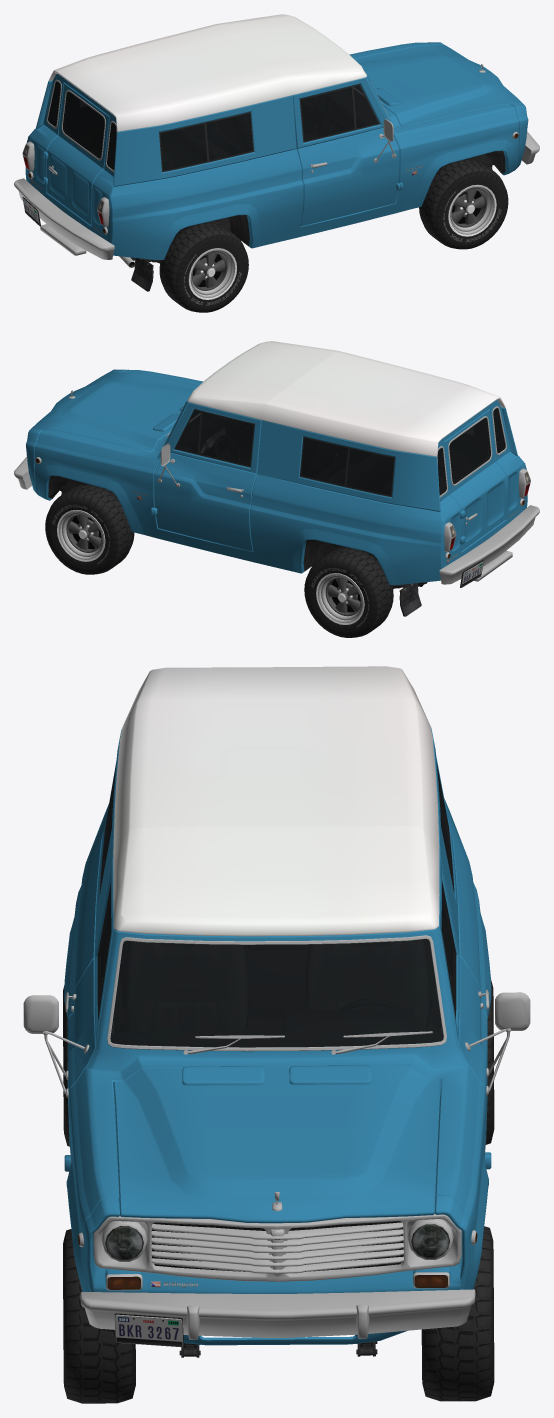
Rendered from bokaroo.glb.
3 renders of one model, top to bottom at view 1: azimuth 30°, elevation 25°; view 2: azimuth 150°, elevation 25°; view 3: azimuth 270°, elevation 25°, orthographic. The views are drawn at different scales.
Visible parts, largest first — view 1: Bokaroo67_Body_BUCKAROO_67_Bodymat_0, Bokaroo67_Bottom_UCB_BOTTOM_0, Bokaroo67_Hood_BUCKAROO_67_Bodymat_0, Bokaroo67_Interior_UCB_Interiors_2_0, Bokaroo67_WheelStock_RR_RO1a_Tire_0, Bokaroo67_WheelStock_FR_RO1a_Tire_0, Bokaroo67_Bodyglass_UCB_Lights_and_Glass_Transperent_0, Bokaroo67_Bumper_rear_UCB_BOTTOM_0, Bokaroo67_Glass_Passenger_UCB_Lights_and_Glass_Transperent_0, Bokaroo67_rear_door_glass_UCB_Lights_and_Glass_Transperent_0, Bokaroo67_rear_door_inner_UCB_BOTTOM_0; view 2: Bokaroo67_Body_BUCKAROO_67_Bodymat_0, Bokaroo67_Bottom_UCB_BOTTOM_0, Bokaroo67_Hood_BUCKAROO_67_Bodymat_0, Bokaroo67_Interior_UCB_Interiors_2_0, Bokaroo67_WheelStock_RL_RO1a_Tire_0, Bokaroo67_WheelStock_FL_RO1a_Tire_0, Bokaroo67_Bodyglass_UCB_Lights_and_Glass_Transperent_0, Bokaroo67_Bumper_rear_UCB_BOTTOM_0, Bokaroo67_Glass_Driver_UCB_Lights_and_Glass_Transperent_0, Bokaroo67_rear_door_glass_UCB_Lights_and_Glass_Transperent_0, Bokaroo67_rear_door_inner_UCB_BOTTOM_0; view 3: Bokaroo67_Bottom_UCB_BOTTOM_0, Bokaroo67_Body_BUCKAROO_67_Bodymat_0, Bokaroo67_Hood_BUCKAROO_67_Bodymat_0, Bokaroo67_Windshield_UCB_Lights_and_Glass_Transperent_0, Bokaroo67_Interior_UCB_Interiors_2_0, Bokaroo67_Bumper_Front_UCB_BOTTOM_0, Bokaroo67_WheelStock_FL_RO1a_Tire_0, Bokaroo67_WheelStock_FR_RO1a_Tire_0, Bokaroo67_Headlight_Glass_UCB_Lights_and_Glass_0, Bokaroo67_Numberplate_Front_Numberplates_Misk_U_0, Bokaroo67_Bodyglass_UCB_Lights_and_Glass_Transperent_0, Bokaroo67_WheelStock_RL_RO1a_Tire_0.
Boxes of the visible parts, <box> form: Bokaroo67_Body_BUCKAROO_67_Bodymat_0: <box>25,42,528,259</box>; Bokaroo67_Bottom_UCB_BOTTOM_0: <box>22,14,518,291</box>; Bokaroo67_Hood_BUCKAROO_67_Bodymat_0: <box>354,44,522,126</box>; Bokaroo67_Interior_UCB_Interiors_2_0: <box>48,82,376,169</box>; Bokaroo67_WheelStock_RR_RO1a_Tire_0: <box>159,222,248,312</box>; Bokaroo67_WheelStock_FR_RO1a_Tire_0: <box>419,159,508,249</box>; Bokaroo67_Bodyglass_UCB_Lights_and_Glass_Transperent_0: <box>48,81,378,170</box>; Bokaroo67_Bumper_rear_UCB_BOTTOM_0: <box>14,178,114,259</box>; Bokaroo67_Glass_Passenger_UCB_Lights_and_Glass_Transperent_0: <box>300,87,354,141</box>; Bokaroo67_rear_door_glass_UCB_Lights_and_Glass_Transperent_0: <box>63,92,104,158</box>; Bokaroo67_rear_door_inner_UCB_BOTTOM_0: <box>48,90,105,174</box>; Bokaroo67_Body_BUCKAROO_67_Bodymat_0: <box>26,369,527,585</box>; Bokaroo67_Bottom_UCB_BOTTOM_0: <box>35,341,530,616</box>; Bokaroo67_Hood_BUCKAROO_67_Bodymat_0: <box>32,371,197,451</box>; Bokaroo67_Interior_UCB_Interiors_2_0: <box>177,408,504,494</box>; Bokaroo67_WheelStock_RL_RO1a_Tire_0: <box>304,548,393,637</box>; Bokaroo67_WheelStock_FL_RO1a_Tire_0: <box>45,484,134,574</box>; Bokaroo67_Bodyglass_UCB_Lights_and_Glass_Transperent_0: <box>176,408,505,495</box>; Bokaroo67_Bumper_rear_UCB_BOTTOM_0: <box>439,505,539,587</box>; Bokaroo67_Glass_Driver_UCB_Lights_and_Glass_Transperent_0: <box>199,412,253,466</box>; Bokaroo67_rear_door_glass_UCB_Lights_and_Glass_Transperent_0: <box>449,418,490,483</box>; Bokaroo67_rear_door_inner_UCB_BOTTOM_0: <box>448,416,492,525</box>; Bokaroo67_Bottom_UCB_BOTTOM_0: <box>23,666,530,1290</box>; Bokaroo67_Body_BUCKAROO_67_Bodymat_0: <box>64,727,491,1345</box>; Bokaroo67_Hood_BUCKAROO_67_Bodymat_0: <box>113,1065,441,1223</box>; Bokaroo67_Windshield_UCB_Lights_and_Glass_Transperent_0: <box>110,939,443,1047</box>; Bokaroo67_Interior_UCB_Interiors_2_0: <box>102,822,452,1046</box>; Bokaroo67_Bumper_Front_UCB_BOTTOM_0: <box>80,1289,475,1345</box>; Bokaroo67_WheelStock_FL_RO1a_Tire_0: <box>421,1226,494,1401</box>; Bokaroo67_WheelStock_FR_RO1a_Tire_0: <box>63,1229,135,1403</box>; Bokaroo67_Headlight_Glass_UCB_Lights_and_Glass_0: <box>105,1224,449,1260</box>; Bokaroo67_Numberplate_Front_Numberplates_Misk_U_0: <box>114,1314,183,1347</box>; Bokaroo67_Bodyglass_UCB_Lights_and_Glass_Transperent_0: <box>98,762,455,1016</box>; Bokaroo67_WheelStock_RL_RO1a_Tire_0: <box>485,980,494,1144</box>.
Bounding box in the file's own units: 4.59 × 1.96 × 2.21.
8 materials, 7 textured.
